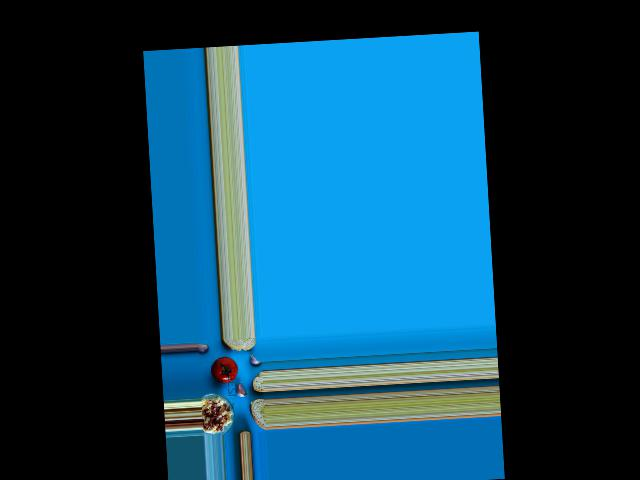tomato: (210, 355, 238, 382)
